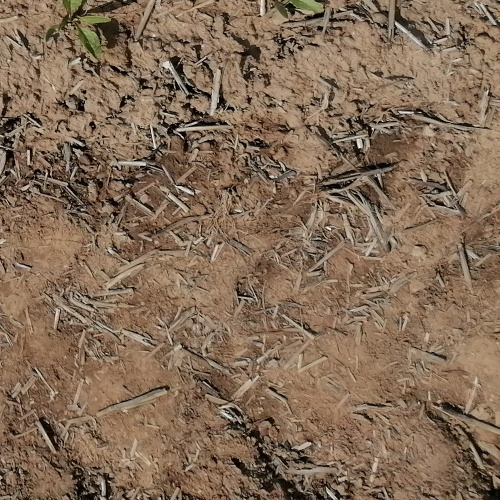beet: (50, 0, 110, 63), (271, 0, 329, 16)
